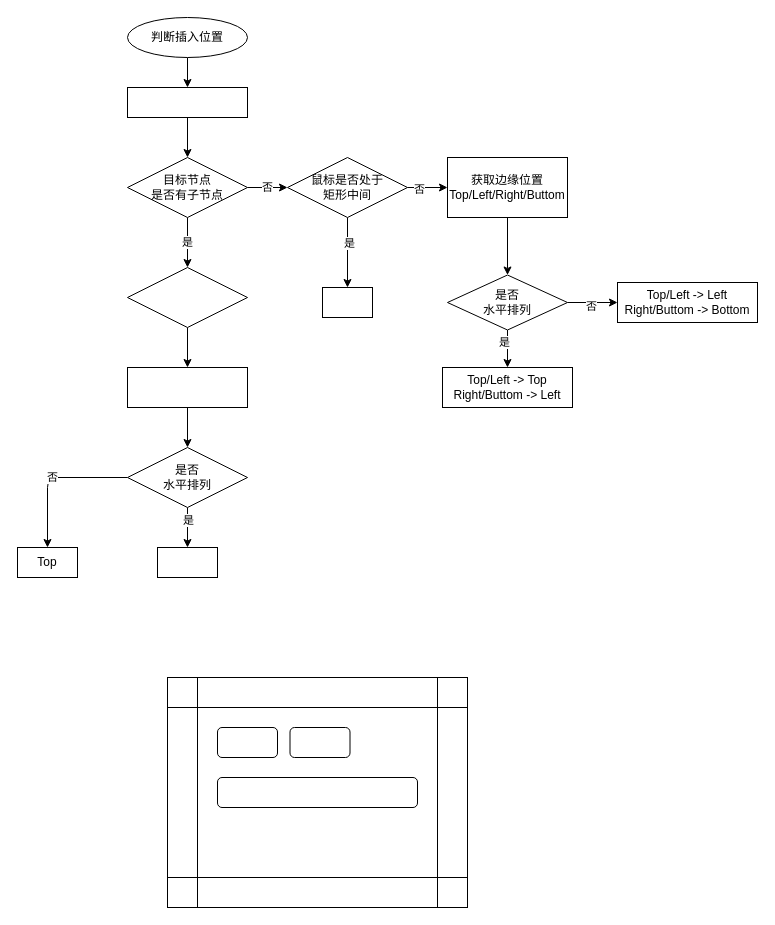
Some shapes in this 775 by 925 pixel diagram are drawn without their labels. The centre of each missing label's shape, as x and y in pixels:
In: pixel 347 302
Left: pixel 187 562
是否存在鼠标后 第一个子节点: pixel 187 297
目标节点为 该子节点: pixel 187 387
获取over目标节点: pixel 187 102
